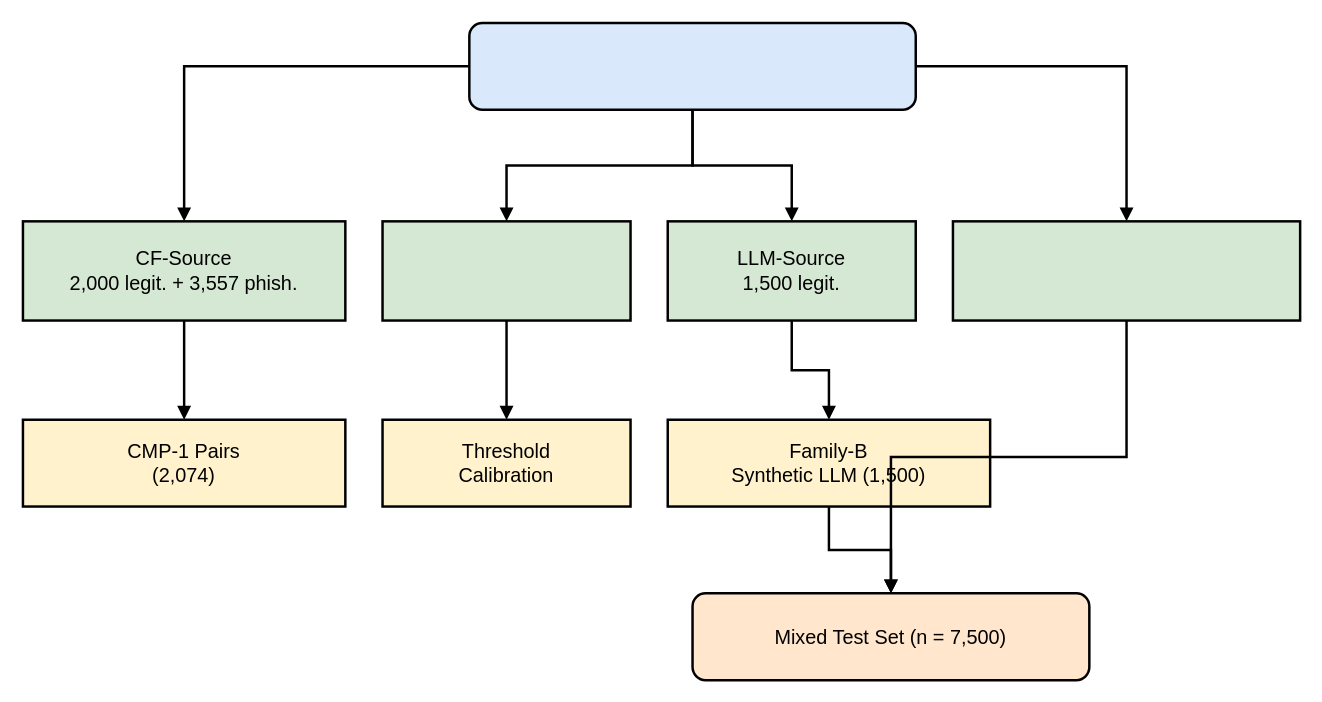
Some shapes in this 1322 by 702 pixel diagram are drawn without their labels. The shapes that lost their labels are listed below. From the top down, each one's centre as x and y in pixels, then its label:
At pixel 691 65: "Open Corpus: 10,979 legit. / 6,557 phishing".
At pixel 506 270: "Calibration 2,000 legit.".
At pixel 1126 270: "Test 3,000 legit. + 3,000 phish.".
